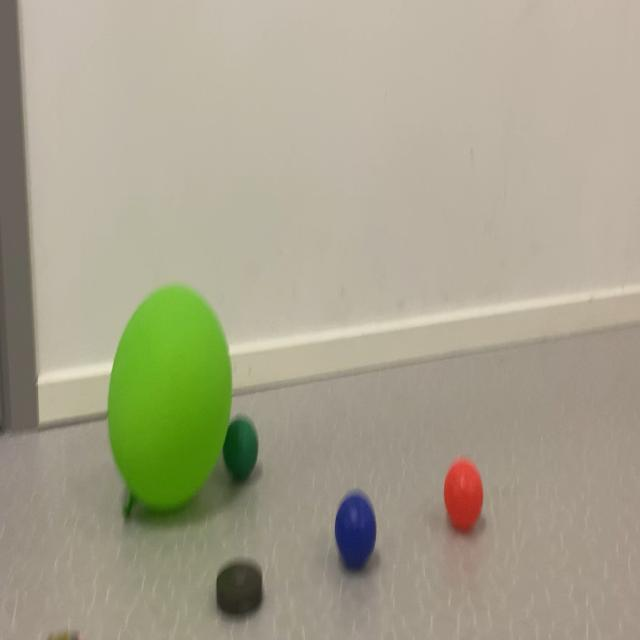7: (439, 403, 526, 640)
green ball: (321, 464, 400, 608)
red ball: (206, 380, 259, 514)
